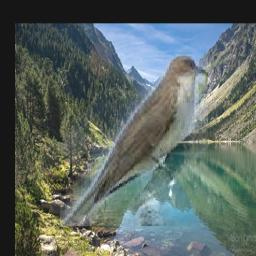Cuckoo: (60, 54, 208, 226)
